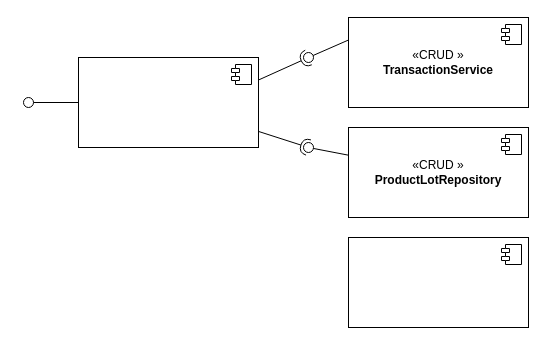
The diagram is 546 pixels wide and 345 high, and some of its shapes have lost their labels. Here are the shapes that lost their labels. From the top down, the centre of each, then its label:
point (168, 102): «Component » Inventory Service
point (438, 282): «CRUD » ProductService
